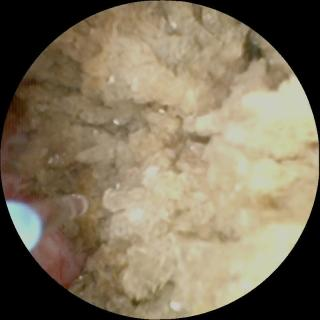fiber: (8, 202, 41, 248)
stone: (8, 4, 315, 315)
